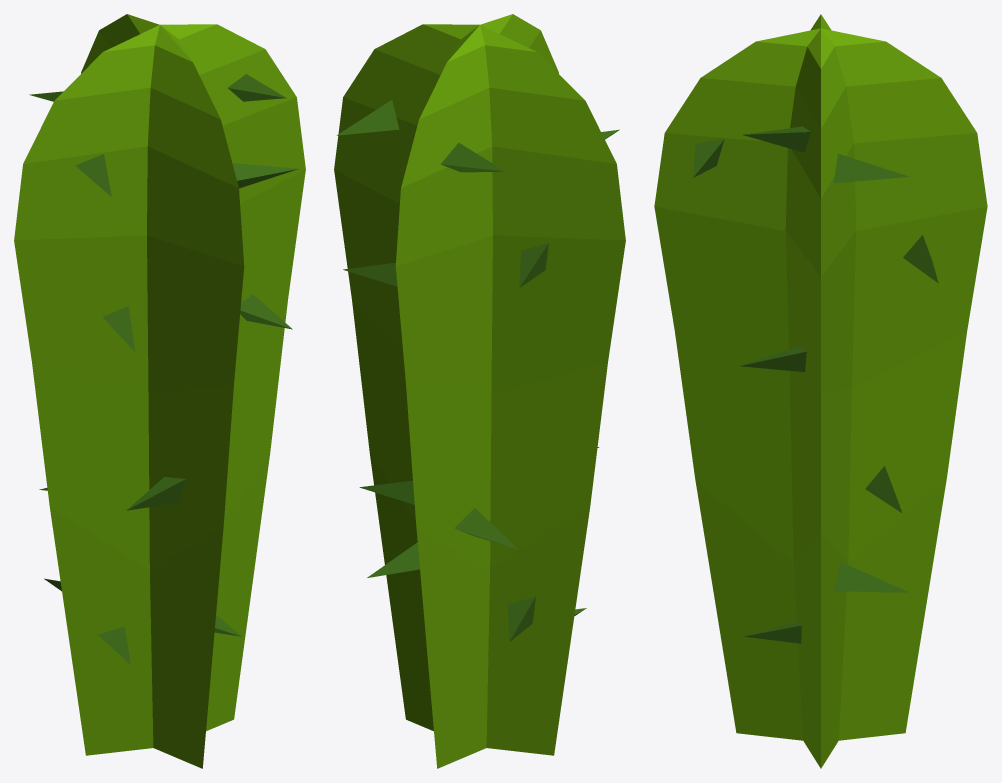
Rendered from Cactus_32_B.fbx.
The picture shows the model from 3 angles, left to right: view 1: azimuth 30°, elevation 25°; view 2: azimuth 150°, elevation 25°; view 3: azimuth 270°, elevation 25°; orthographic projection.
Parts seen in each view (by area): view 1: Cactus_32_B; view 2: Cactus_32_B; view 3: Cactus_32_B.
Part boxes in pixels (box(x1,y1,x2,y2)): Cactus_32_B: box(14, 14, 305, 768); Cactus_32_B: box(334, 14, 625, 768); Cactus_32_B: box(654, 14, 987, 768).
Size of the model in its own units: 65.34 by 153 by 65.34.
